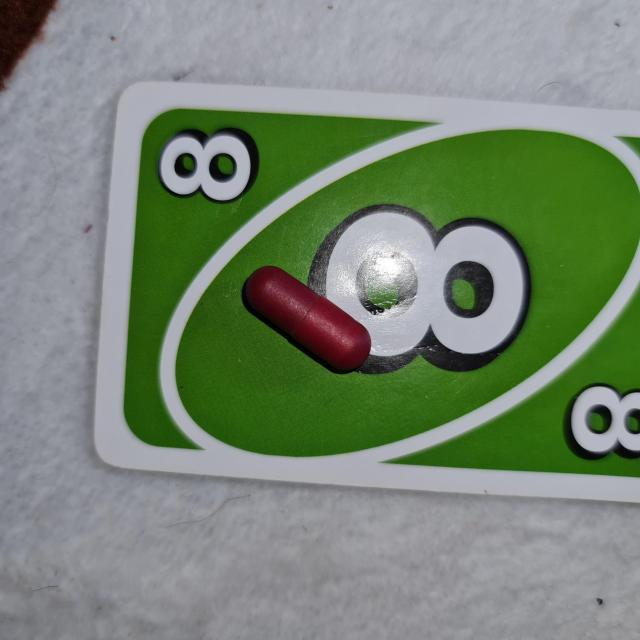pill: (235, 264, 373, 376)
